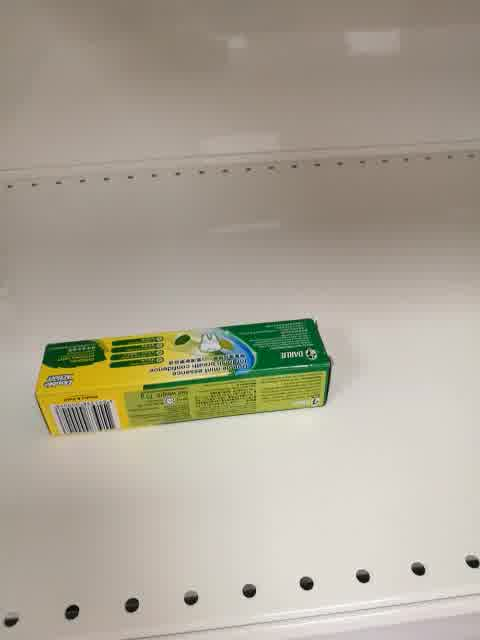toothpaste: (30, 318, 334, 436)
